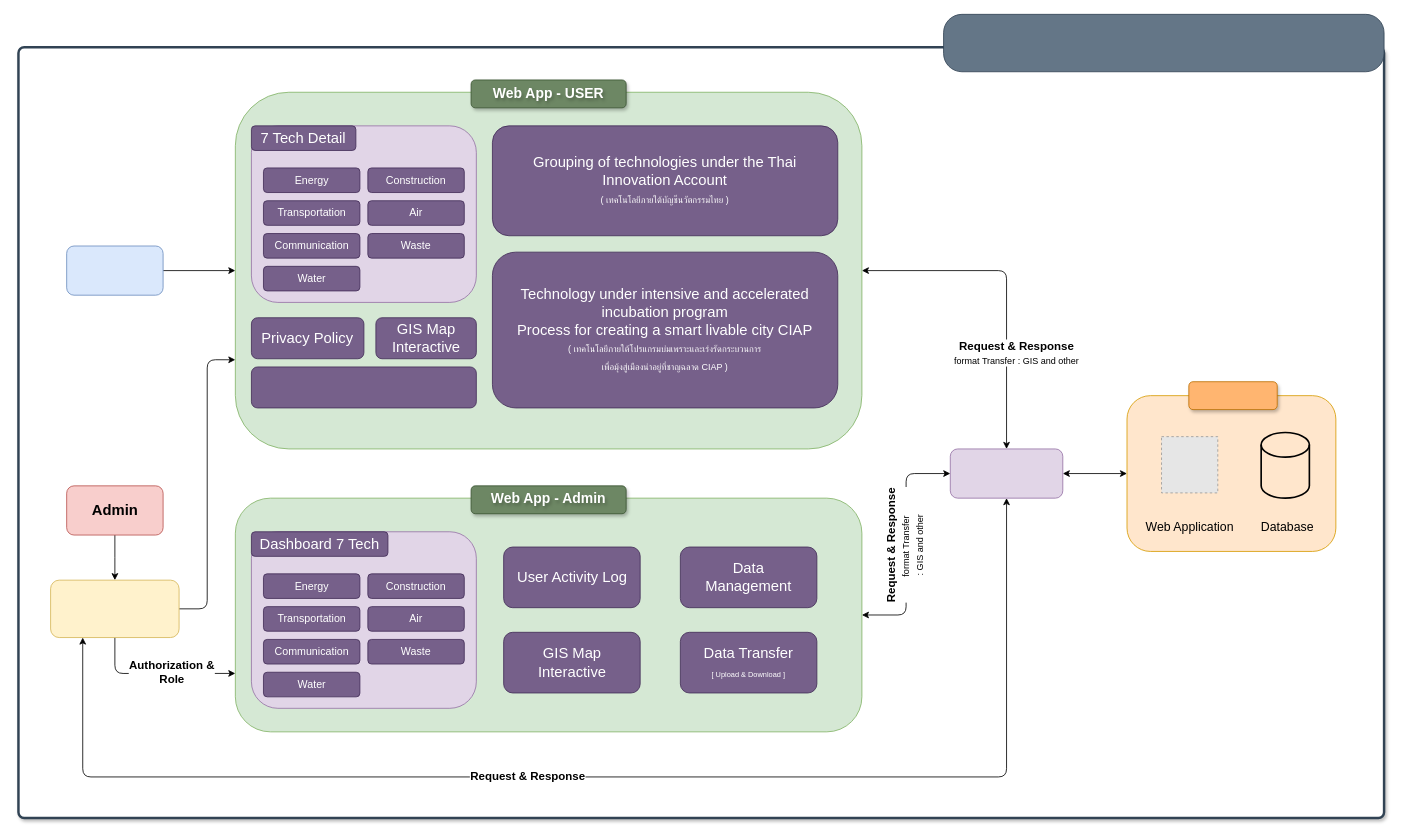
The diagram is 1415 pixels wide and 839 high, and some of its shapes have lost their labels. Grey dashed boxes stand in for pictures. The centre of each missing label's shape, as x and y in pixels:
Authentication Page: the point at 114,608
Internal Services: the point at 1006,473
Network partners and teams: the point at 363,387
NU Server: the point at 1233,396
User: the point at 114,270
Workflow - Tech Stock Platform: the point at 1163,43
